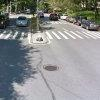Crosswalk: (2, 23, 97, 50)
